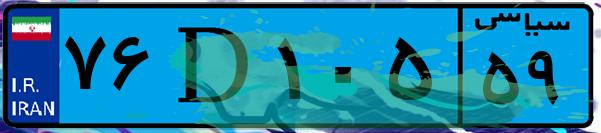0: (330, 28, 385, 110)
1: (270, 28, 330, 110)
5: (385, 28, 445, 110), (475, 38, 525, 113)
6: (110, 28, 158, 98)
7: (57, 26, 110, 100)
9: (525, 38, 570, 115)
D: (158, 12, 270, 120)
